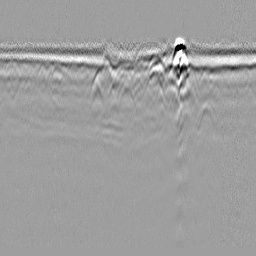cavity: (116, 80, 137, 117)
